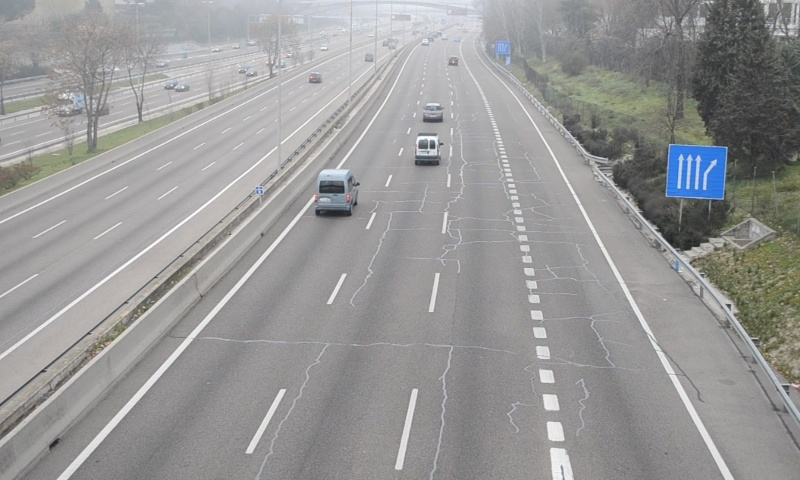car: (422, 103, 444, 122)
van: (314, 170, 358, 214), (414, 132, 441, 165)
